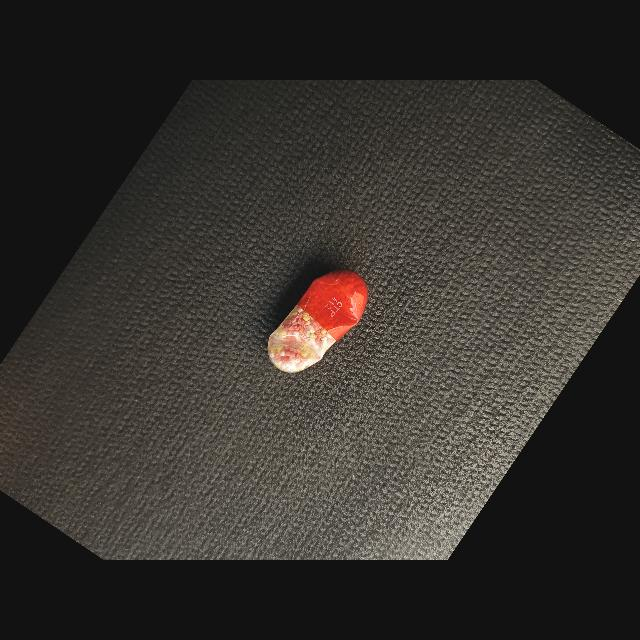Defective Capsule: (268, 270, 368, 373)
